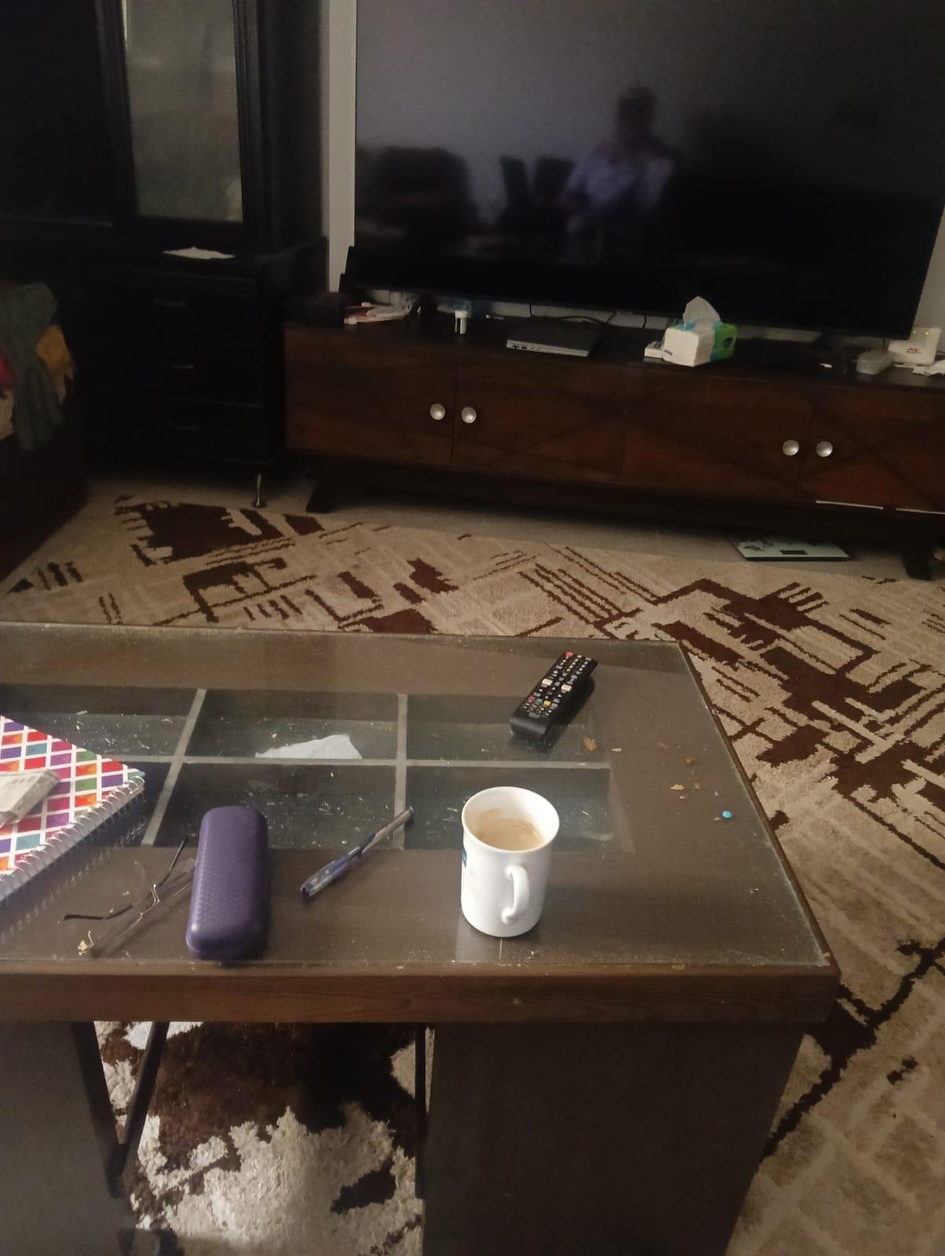cup: (461, 787, 558, 937)
